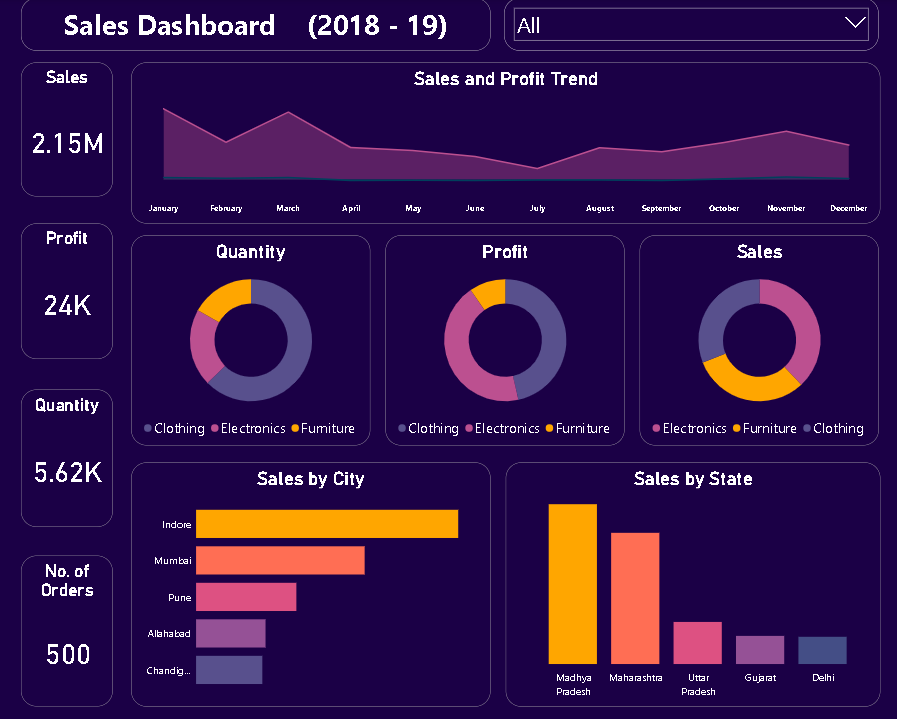

What the dashboard file says about the page in this screenshot:
{"tool":"powerbi","page":{"name":"Category","canvas":[1750,1400],"ordinal":0},"visuals":[{"type":"areaChart","title":"Sales and Profit Trend","fields":{"Category":["List of Orders.Order Date.Variation.Date Hierarchy.Month"],"Y":["Sum(Order Details.Sales)","Sum(Order Details.Profit)"]},"box":[256.2,124.8,1451.6,312],"z":0},{"type":"donutChart","title":"Quantity ","fields":{"Category":["Order Details.Category"],"Y":["Sum(Order Details.Quantity)"]},"box":[256.2,459.8,463.1,407.2],"z":1000},{"type":"columnChart","title":" Sales by State","fields":{"Category":["List of Orders.State"],"Y":["Sum(Order Details.Sales)"]},"box":[981.9,899.8,725.8,472.9],"z":2000},{"type":"clusteredBarChart","title":" Sales by City","fields":{"Category":["List of Orders.City"],"Y":["Sum(Order Details.Sales)"]},"box":[256.2,899.8,696.2,472.9],"z":3000},{"type":"donutChart","title":" Profit ","fields":{"Category":["Order Details.Category"],"Y":["Sum(Order Details.Profit)"]},"box":[748.8,459.8,463.1,407.2],"z":4000},{"type":"donutChart","title":"Sales ","fields":{"Category":["Order Details.Category"],"Y":["Sum(Order Details.Sales)"]},"box":[1241.4,459.8,463.1,407.2],"z":5000},{"type":"textbox","box":[42.7,0,909.7,101.8],"z":6000},{"type":"slicer","title":"State","fields":{"Values":["List of Orders.State"]},"box":[978.7,0,725.8,101.8],"z":7000},{"type":"card","title":"Sales","fields":{"Values":["Sum(Order Details.Sales)"]},"box":[42.7,124.8,177.3,259.4],"z":8000},{"type":"card","title":"No. of Orders","fields":{"Values":["CountNonNull(List of Orders.Order ID)"]},"box":[42.7,1080.5,177.3,292.3],"z":9000},{"type":"card","title":"Quantity","fields":{"Values":["Sum(Order Details.Quantity)"]},"box":[42.7,758.6,177.3,266],"z":10000},{"type":"card","title":"Profit","fields":{"Values":["Sum(Order Details.Profit)"]},"box":[42.7,436.8,177.3,262.7],"z":11000}]}

Visuals, with their boxes in screenshot pixels (x1, y1, x2, y2), scaled from the page's 1750x1400 canvas onto the 897x719 screenshot:
"Sales and Profit Trend" areaChart: BBox(131, 64, 875, 224)
"Quantity " donutChart: BBox(131, 236, 369, 445)
" Sales by State" columnChart: BBox(503, 462, 875, 705)
" Sales by City" clusteredBarChart: BBox(131, 462, 488, 705)
" Profit " donutChart: BBox(384, 236, 621, 445)
"Sales " donutChart: BBox(636, 236, 874, 445)
textbox: BBox(22, 0, 488, 52)
"State" slicer: BBox(502, 0, 874, 52)
"Sales" card: BBox(22, 64, 113, 197)
"No. of Orders" card: BBox(22, 555, 113, 705)
"Quantity" card: BBox(22, 390, 113, 526)
"Profit" card: BBox(22, 224, 113, 359)
